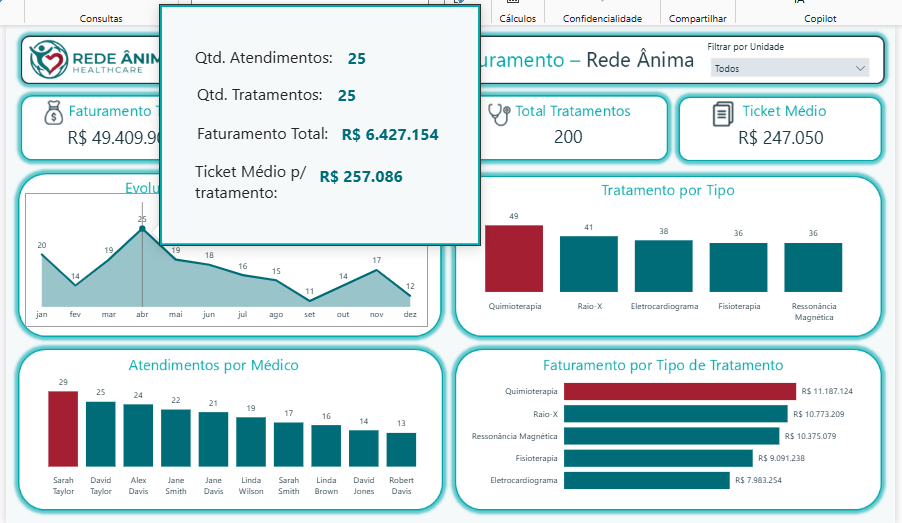

This screenshot's page, from the dashboard's own definition file:
{"tool":"powerbi","page":{"name":"Análise de Atendimento e Faturamento","canvas":[1280,720],"ordinal":0},"visuals":[{"type":"card","fields":{"Values":["_Medidas.Faturamento Total"]},"box":[28,133.3,277.3,58.7],"z":0},{"type":"areaChart","fields":{"Category":["dCalendario.Mês Nome Curto"],"Y":["_Medidas.Qtd. Atendimentos"]},"box":[28.1,242.1,578.9,193],"z":1000},{"type":"clusteredColumnChart","fields":{"Category":["fTratamento.Tipo"],"Y":["_Medidas.Qtd. Tratamentos"]},"box":[624.2,250,630.3,184.8],"z":2000},{"type":"clusteredBarChart","fields":{"Y":["_Medidas.Faturamento Total"],"Category":["fTratamento.Tipo"]},"box":[656,489.3,568,197.3],"z":3000},{"type":"columnChart","fields":{"Category":["dMedicos.Nome Completo"],"Y":["_Medidas.Qtd. Atendimentos"]},"box":[28,489.3,590.7,197.3],"z":4000},{"type":"card","fields":{"Values":["_Medidas.Qtd. Atendimentos"]},"box":[341.3,132.5,277.9,59],"z":5000},{"type":"card","fields":{"Values":["_Medidas.Qtd. Tratamentos"]},"box":[669.3,132,280,58.7],"z":6000},{"type":"card","fields":{"Values":["_Medidas.Ticket Médio por Tratamento"]},"box":[976,133.3,278.7,58.7],"z":7000},{"type":"slicer","title":"Filtrar por Unidade","fields":{"Values":["dMedicos.Unidade"]},"box":[1005.6,37,248.1,37],"z":8000},{"type":"textbox","box":[1005.3,17.5,136.8,38.6],"z":9000}]}

Visuals, with their boxes on the page's 1280x720 design canvas (x1, y1, x2, y2). These are canvas units, not pixel positions in the 902x523 screenshot, which may show the page scaled, cropped or inside an application window:
card - _Medidas.Faturamento Total: bbox(28, 133, 305, 192)
areaChart - dCalendario.Mês Nome Curto x _Medidas.Qtd. Atendimentos: bbox(28, 242, 607, 435)
clusteredColumnChart - fTratamento.Tipo x _Medidas.Qtd. Tratamentos: bbox(624, 250, 1254, 435)
clusteredBarChart - _Medidas.Faturamento Total x fTratamento.Tipo: bbox(656, 489, 1224, 687)
columnChart - dMedicos.Nome Completo x _Medidas.Qtd. Atendimentos: bbox(28, 489, 619, 687)
card - _Medidas.Qtd. Atendimentos: bbox(341, 132, 619, 192)
card - _Medidas.Qtd. Tratamentos: bbox(669, 132, 949, 191)
card - _Medidas.Ticket Médio por Tratamento: bbox(976, 133, 1255, 192)
"Filtrar por Unidade" slicer: bbox(1006, 37, 1254, 74)
textbox: bbox(1005, 18, 1142, 56)
